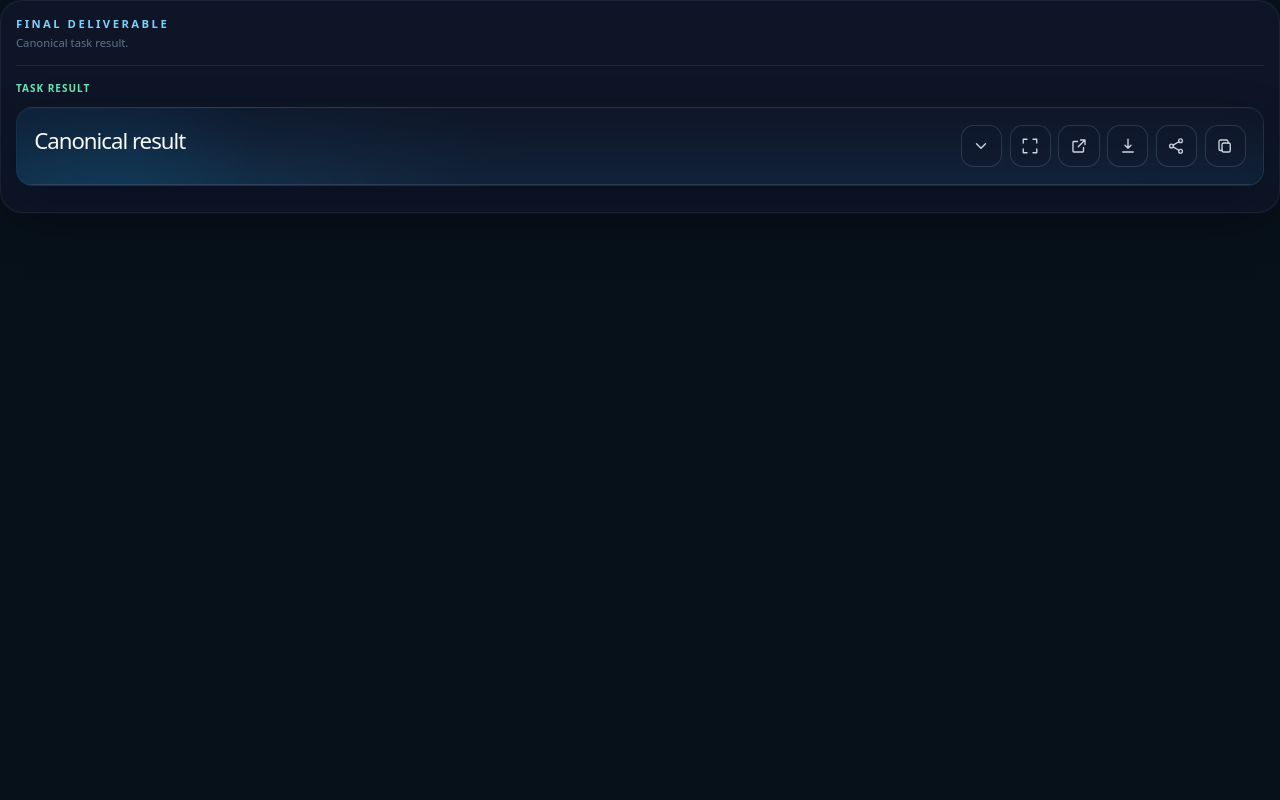
Test: TaskWorkPanel › loads the canonical task result through its authorized step-run accessor
The image size is (1280, 800).
Expected: the element with test id "rich-deliverable" is shown, [16,107,1264,186]
Expected: the text "Loaded through the step." is not shown
Click the button named "Expand document".
click(981, 146)  # box [961,125,1002,167]
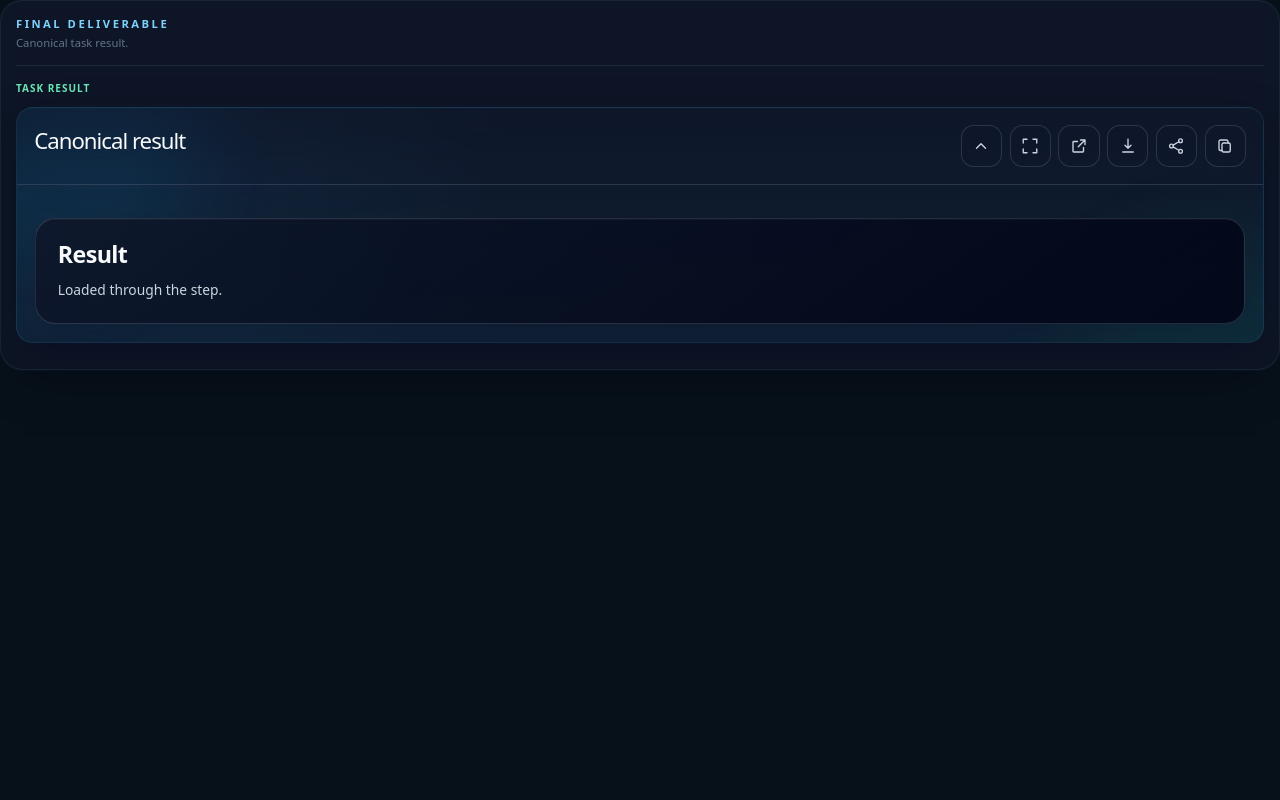
Now the text "Loaded through the step." is shown, box [58,280,222,299]
